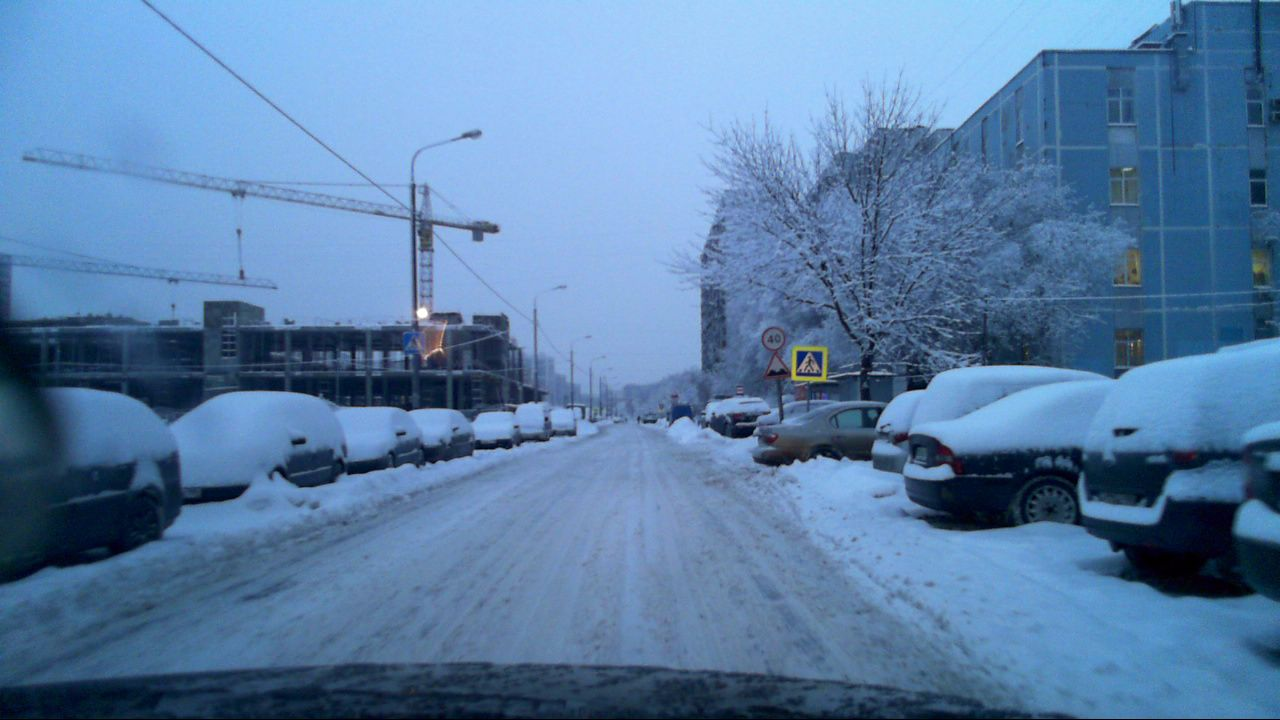speed_warning_40: (760, 326, 783, 349)
